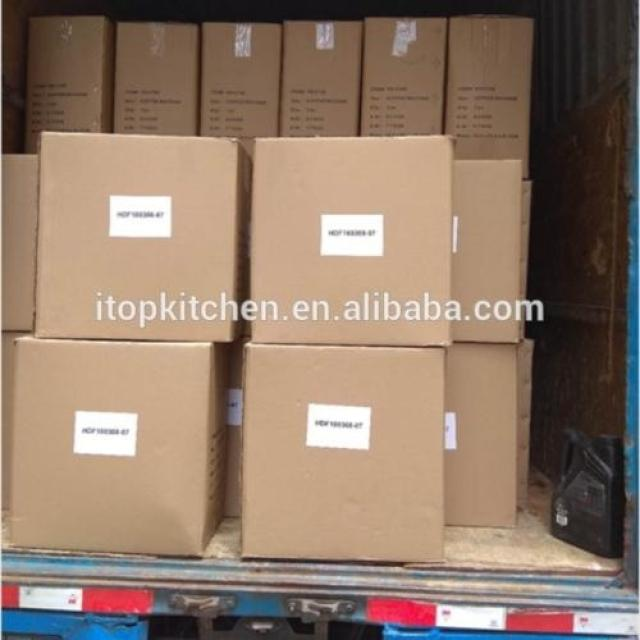box: (9, 332, 230, 557), (35, 132, 252, 343), (242, 343, 447, 562), (251, 136, 454, 347), (444, 13, 534, 178), (444, 343, 517, 527), (453, 157, 522, 344), (26, 14, 116, 155), (198, 20, 283, 159), (111, 23, 201, 137), (360, 18, 448, 134), (280, 20, 362, 137), (1, 154, 40, 332), (1, 332, 31, 509), (225, 343, 244, 520), (517, 339, 534, 509), (520, 178, 532, 340)
